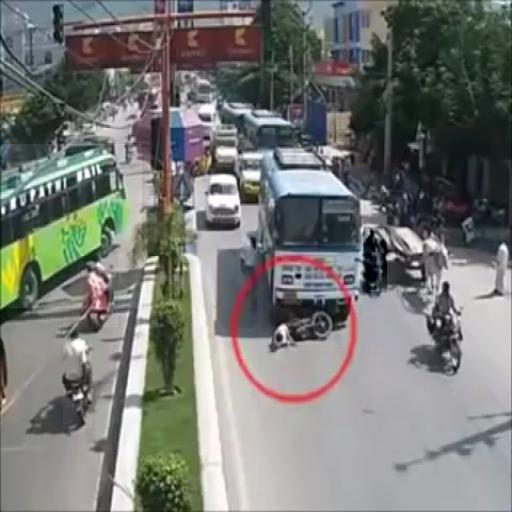小汽车: (2, 144, 142, 308), (207, 175, 241, 226)
小汽车撞自行车: (258, 154, 360, 351)
自行车: (426, 282, 463, 371), (63, 323, 92, 428), (84, 250, 118, 327), (363, 227, 387, 293)
